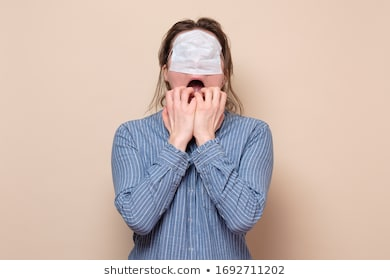mask_weared_incorrect: (169, 42, 223, 106)
